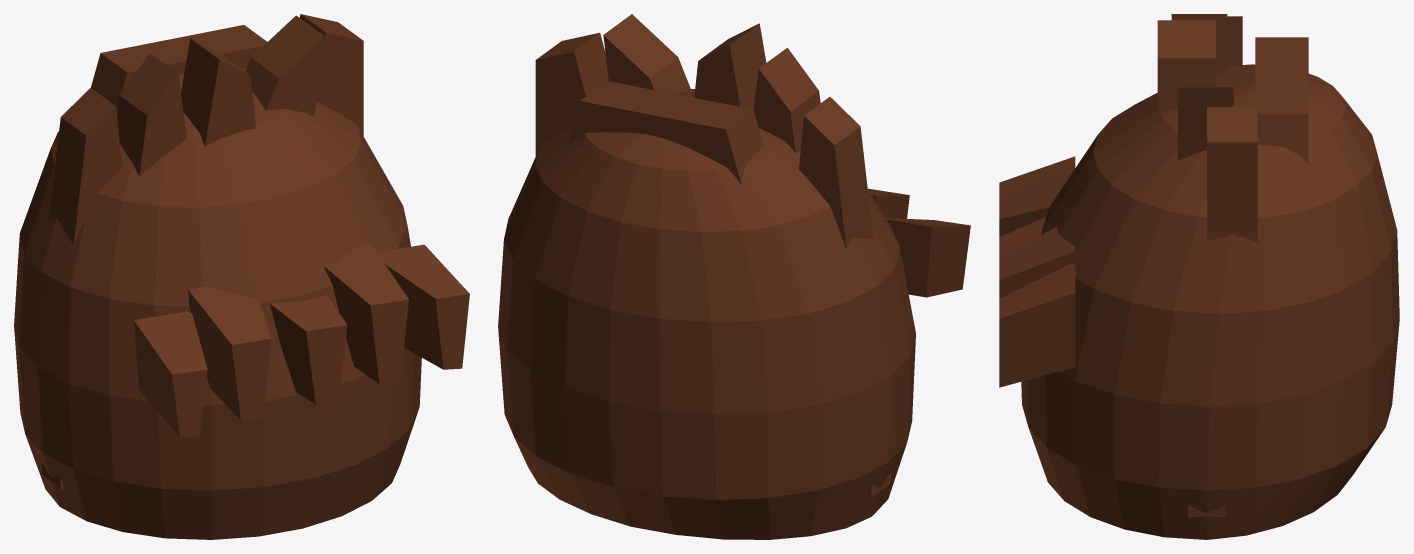
Rendered from hair_boy_textured_crop_01.glb.
3 renders of one model, left to right at view 1: azimuth 30°, elevation 25°; view 2: azimuth 150°, elevation 25°; view 3: azimuth 270°, elevation 25°, orthographic. The views are drawn at different scales.
Parts seen in each view (by area): view 1: TexturedCrop_Cap, TexturedCrop_Fringe_LC, TexturedCrop_Fringe_RC, TexturedCrop_Top_L, TexturedCrop_Fringe_L, TexturedCrop_Fringe_R, TexturedCrop_Fringe_C, TexturedCrop_Top_LC, TexturedCrop_Top_C, TexturedCrop_Top_RC, TexturedCrop_Top_Back, TexturedCrop_Top_R; view 2: TexturedCrop_Cap, TexturedCrop_Top_Back, TexturedCrop_Top_L, TexturedCrop_Top_R, TexturedCrop_Fringe_L, TexturedCrop_Top_RC, TexturedCrop_Top_LC, TexturedCrop_Top_C, TexturedCrop_Fringe_LC; view 3: TexturedCrop_Cap, TexturedCrop_Fringe_R, TexturedCrop_Top_R, TexturedCrop_Top_Back, TexturedCrop_Top_C, TexturedCrop_Fringe_RC, TexturedCrop_Top_RC, TexturedCrop_Fringe_LC, TexturedCrop_Top_LC, TexturedCrop_Fringe_L, TexturedCrop_Fringe_C, TexturedCrop_Top_L.
Part boxes in pixels (left/top/right/bottom): TexturedCrop_Cap: left=14, top=68, right=421, bottom=539; TexturedCrop_Fringe_LC: left=188, top=286, right=271, bottom=420; TexturedCrop_Fringe_RC: left=323, top=243, right=408, bottom=384; TexturedCrop_Top_L: left=49, top=88, right=121, bottom=244; TexturedCrop_Fringe_L: left=134, top=311, right=207, bottom=437; TexturedCrop_Fringe_R: left=377, top=244, right=469, bottom=369; TexturedCrop_Fringe_C: left=269, top=295, right=347, bottom=404; TexturedCrop_Top_LC: left=117, top=53, right=186, bottom=176; TexturedCrop_Top_C: left=181, top=38, right=255, bottom=146; TexturedCrop_Top_RC: left=245, top=15, right=323, bottom=116; TexturedCrop_Top_Back: left=91, top=25, right=266, bottom=108; TexturedCrop_Top_R: left=299, top=14, right=363, bottom=135; TexturedCrop_Cap: left=498, top=89, right=915, bottom=539; TexturedCrop_Top_Back: left=568, top=81, right=763, bottom=183; TexturedCrop_Top_L: left=799, top=97, right=873, bottom=248; TexturedCrop_Top_R: left=535, top=32, right=608, bottom=156; TexturedCrop_Fringe_L: left=885, top=218, right=970, bottom=297; TexturedCrop_Top_RC: left=603, top=14, right=691, bottom=94; TexturedCrop_Top_LC: left=753, top=48, right=820, bottom=152; TexturedCrop_Top_C: left=694, top=23, right=766, bottom=109; TexturedCrop_Fringe_LC: left=867, top=188, right=909, bottom=218; TexturedCrop_Cap: left=1021, top=64, right=1399, bottom=539; TexturedCrop_Fringe_R: left=999, top=263, right=1075, bottom=387; TexturedCrop_Top_R: left=1207, top=107, right=1257, bottom=241; TexturedCrop_Top_Back: left=1255, top=37, right=1308, bottom=163; TexturedCrop_Top_C: left=1157, top=20, right=1215, bottom=114; TexturedCrop_Fringe_RC: left=999, top=227, right=1075, bottom=298; TexturedCrop_Top_RC: left=1178, top=87, right=1233, bottom=160; TexturedCrop_Fringe_LC: left=999, top=165, right=1075, bottom=236; TexturedCrop_Top_LC: left=1171, top=14, right=1227, bottom=74; TexturedCrop_Fringe_L: left=999, top=156, right=1075, bottom=196; TexturedCrop_Fringe_C: left=999, top=217, right=1045, bottom=257; TexturedCrop_Top_L: left=1227, top=16, right=1242, bottom=65.
Size of the model in its own units: 0.328 by 0.374 by 0.316.
